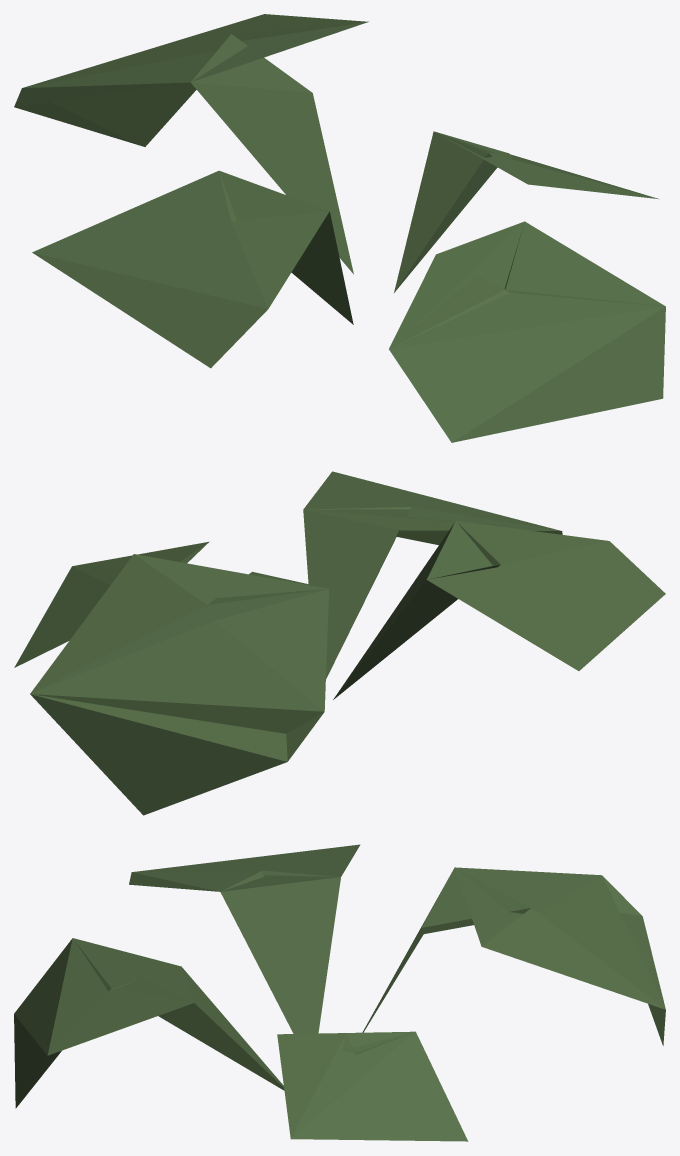
Rendered from Plant_4.lod3.glb.
3 renders of one model, top to bottom at view 1: azimuth 30°, elevation 25°; view 2: azimuth 150°, elevation 25°; view 3: azimuth 270°, elevation 25°, orthographic. The views are drawn at different scales.
Visible parts, largest first — view 1: Plant_4; view 2: Plant_4; view 3: Plant_4.
Boxes of the visible parts, bbox=[...] form: Plant_4: bbox=[14, 14, 665, 442]; Plant_4: bbox=[14, 471, 665, 815]; Plant_4: bbox=[14, 844, 665, 1141].
Size of the model in its own units: 1.81 by 0.6388 by 2.05.
